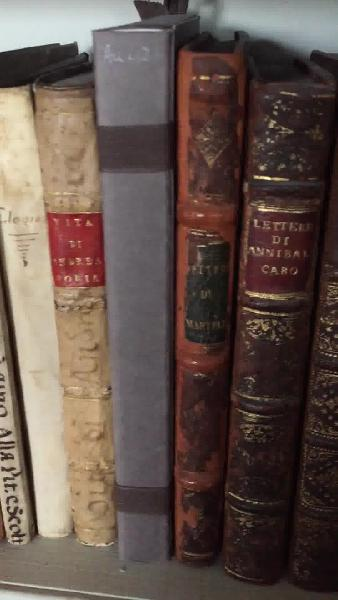Aa6-26: (32, 80, 121, 546)
Aa6-27: (88, 18, 182, 569)
Aa6-28: (173, 45, 224, 572)
Aa6-29: (227, 51, 321, 591)
